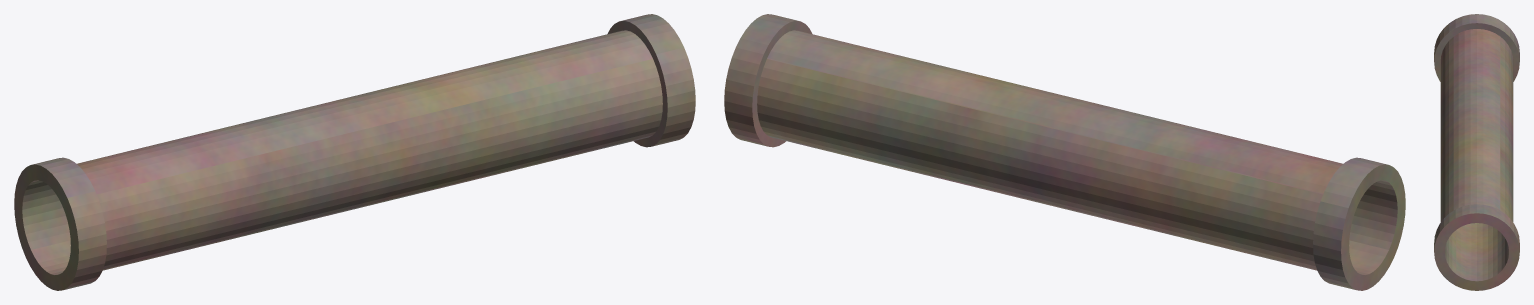
File: Pipe 1.glb
3 renders of one model, left to right at view 1: azimuth 30°, elevation 25°; view 2: azimuth 150°, elevation 25°; view 3: azimuth 270°, elevation 25°, orthographic. The views are drawn at different scales.
Visible parts, largest first — view 1: Pipe thin 200mm WE; view 2: Pipe thin 200mm WE; view 3: Pipe thin 200mm WE.
Part boxes in pixels (x1,y1,x2,y2): Pipe thin 200mm WE: (14, 14, 695, 290); Pipe thin 200mm WE: (724, 14, 1405, 290); Pipe thin 200mm WE: (1434, 14, 1519, 290).
Bounding box in the file's own units: 15.65 × 2.85 × 2.85.
Materials: 1 (1 with a texture image).
